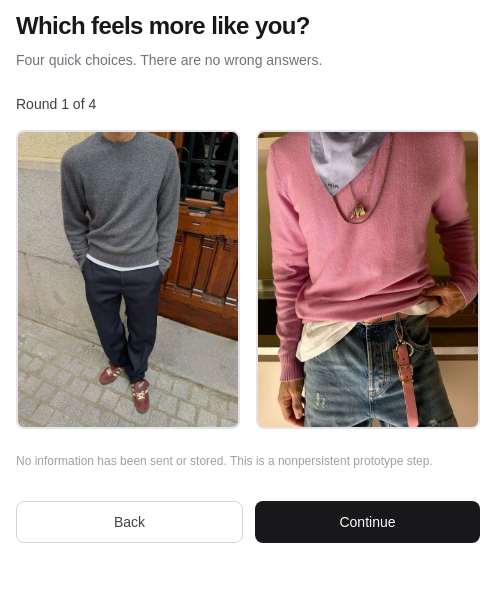
Scenario: WishboneFlow — selection and validation › clicking Continue with no selection shows an inline error and stays on the same round
The image size is (500, 595).
What coordinates should you click on to do the following:
click the button "Continue"
I would click on:
 (368, 522)
Its box is [255, 501, 480, 543].
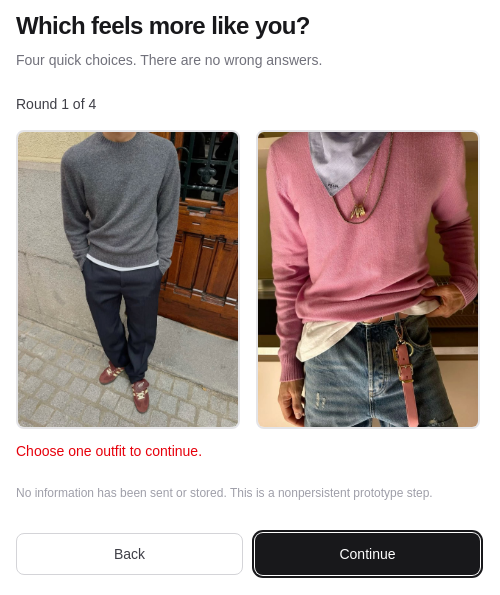
Expected: the text "Round 1 of 4" is shown, [16, 96, 96, 112]
Result: the message shows "Choose one outfit to continue" at [16, 443, 202, 459]
